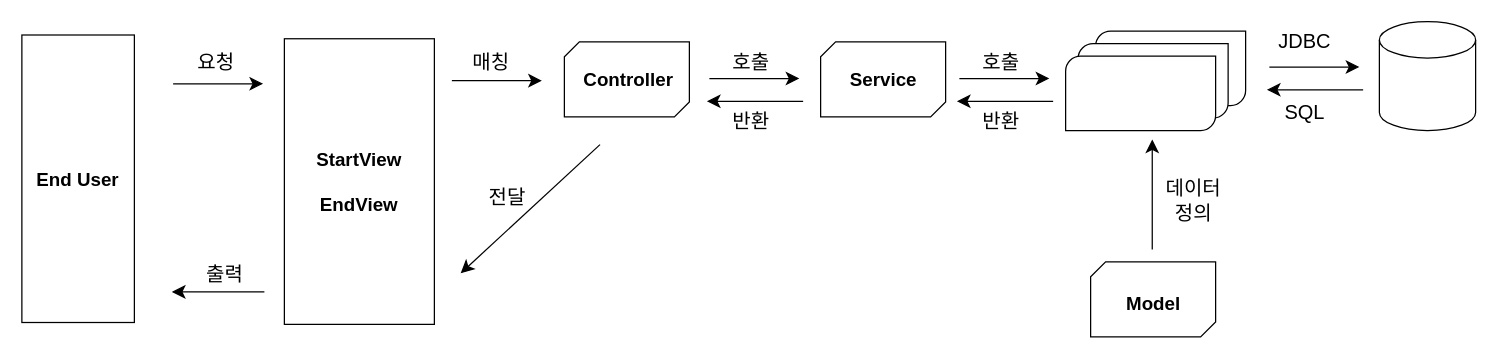
Image size: 1498x360. Some labels were removed from this diagram. The centre of each missing label's shape, as x and y in pixels:
MovieDAO RatingDAO UserDAO: (1140,92)
movieinfo rating user: (1427,75)
